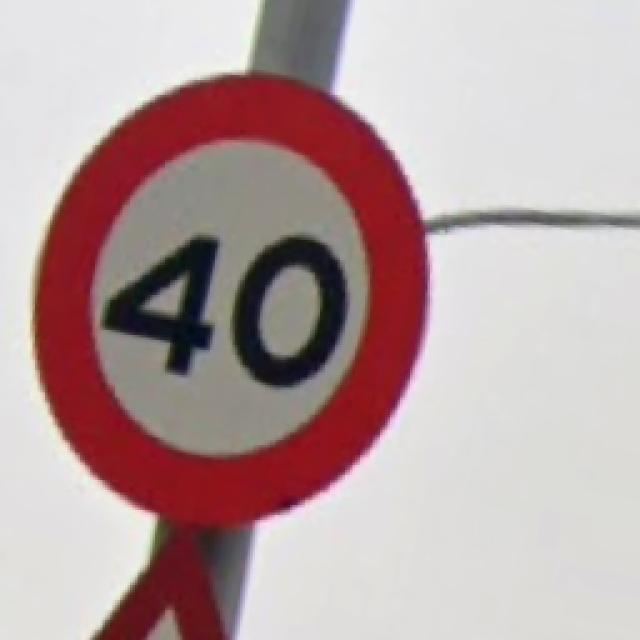Speed Limit -40-: (35, 75, 425, 522)
